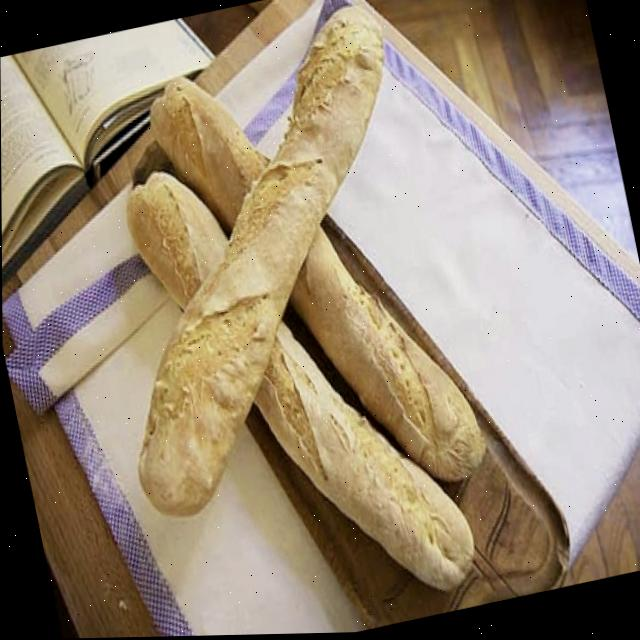面包点心: (33, 0, 555, 639)
